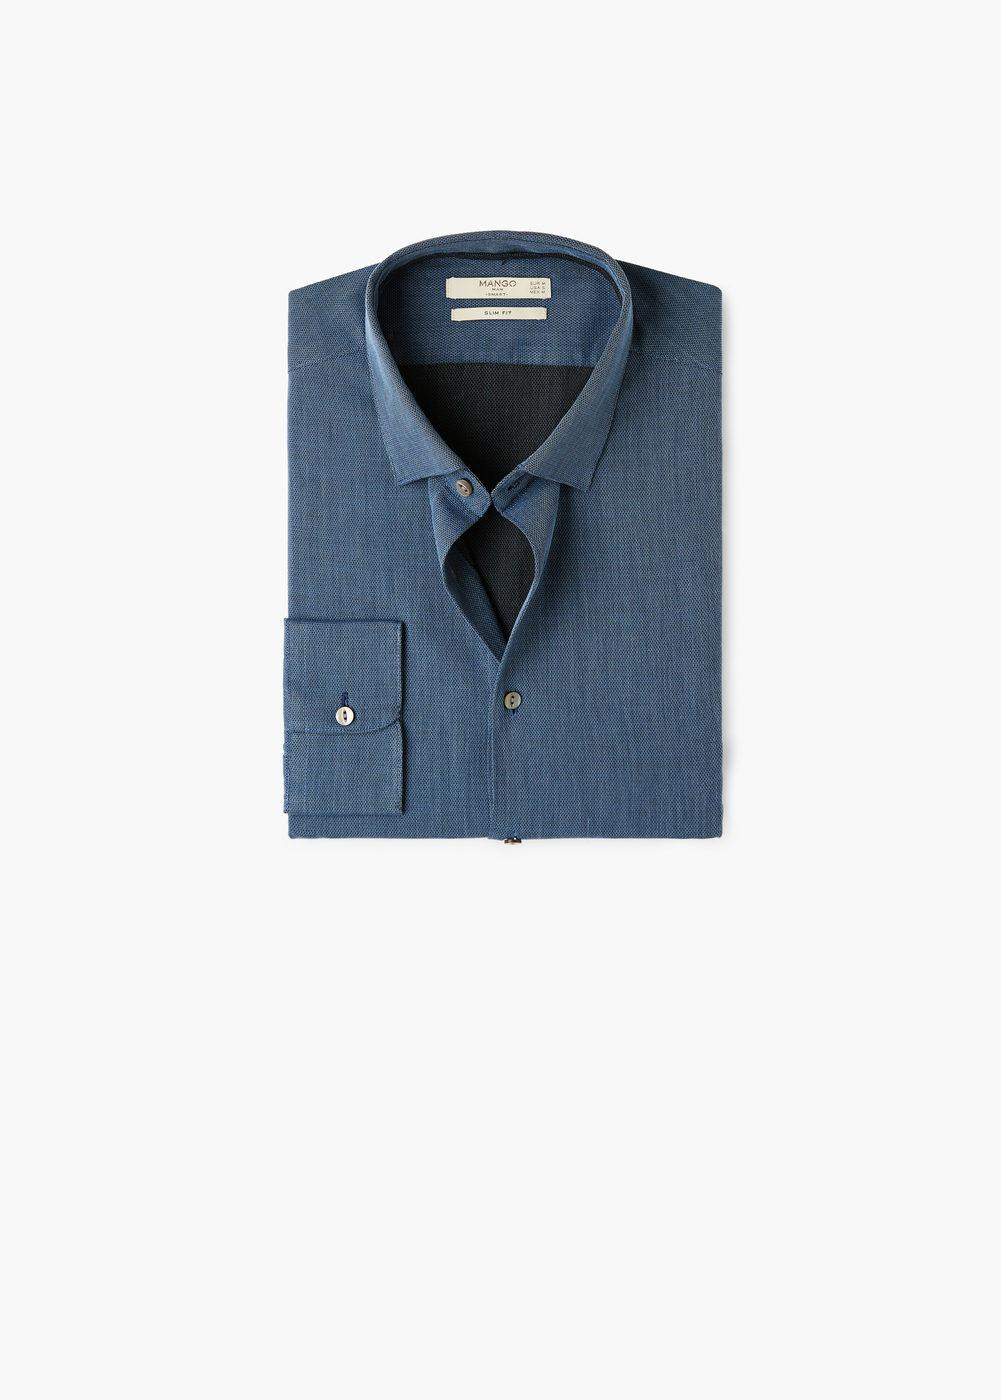teeshirt: (257, 221, 738, 861)
